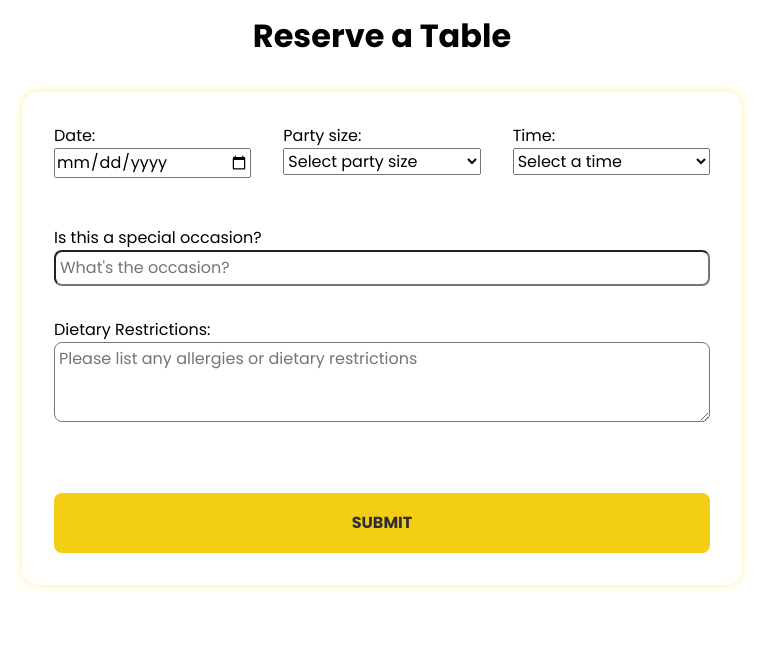
Reservations › shows an error when the party size is 7 or more
Select "7+" in the dropdown labelled "Party size:": (382, 162) [283,148,481,175]
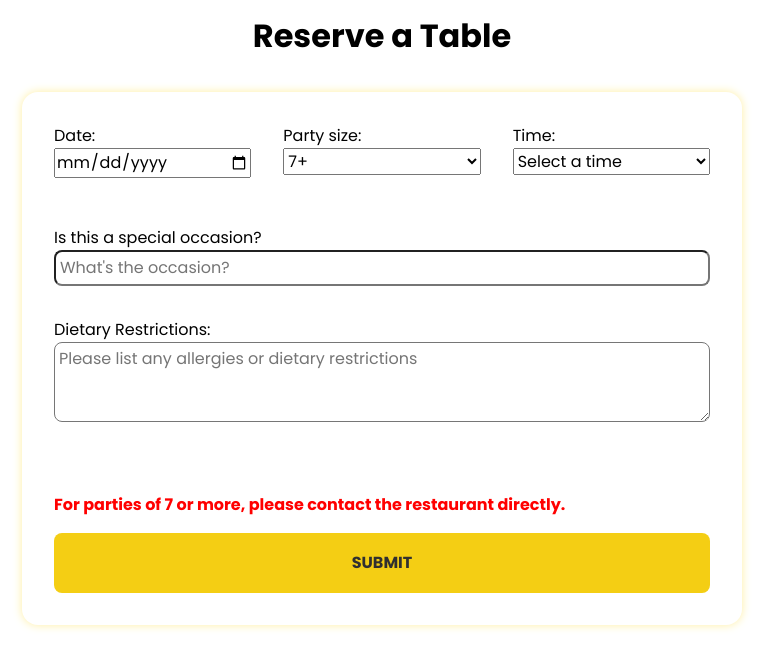
Expected: the text "For parties of 7 or more, please contact the restaurant directly." is shown, [54,493,565,516]
